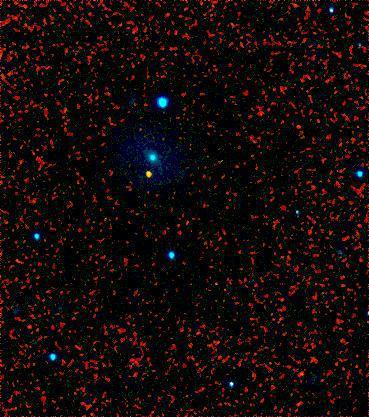star: (132, 160, 162, 190)
